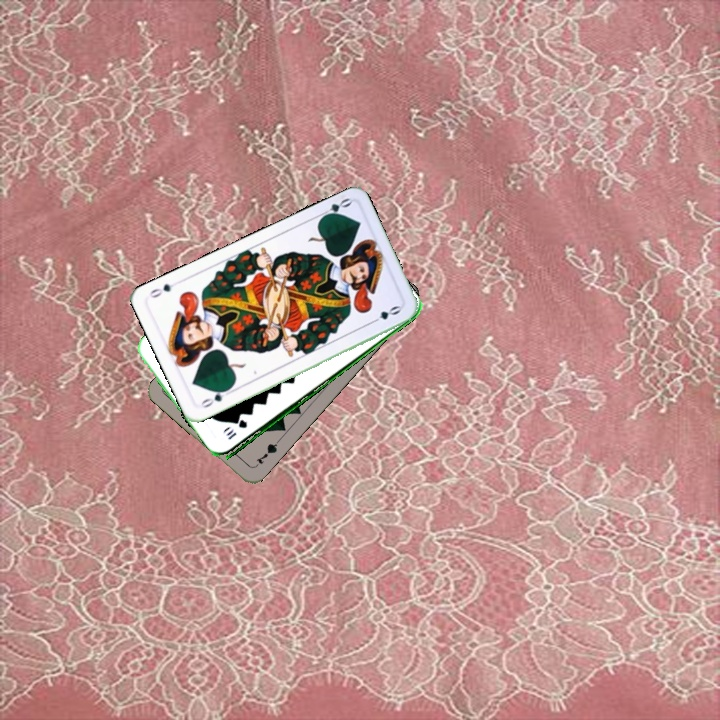G10: (222, 417, 250, 442)
G7: (250, 437, 281, 470)
GO: (315, 194, 354, 222), (197, 384, 233, 411)
